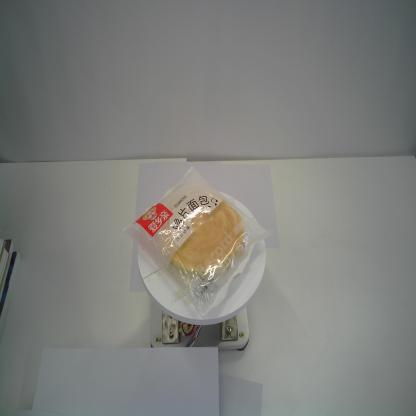Dessert: (125, 162, 268, 322)
